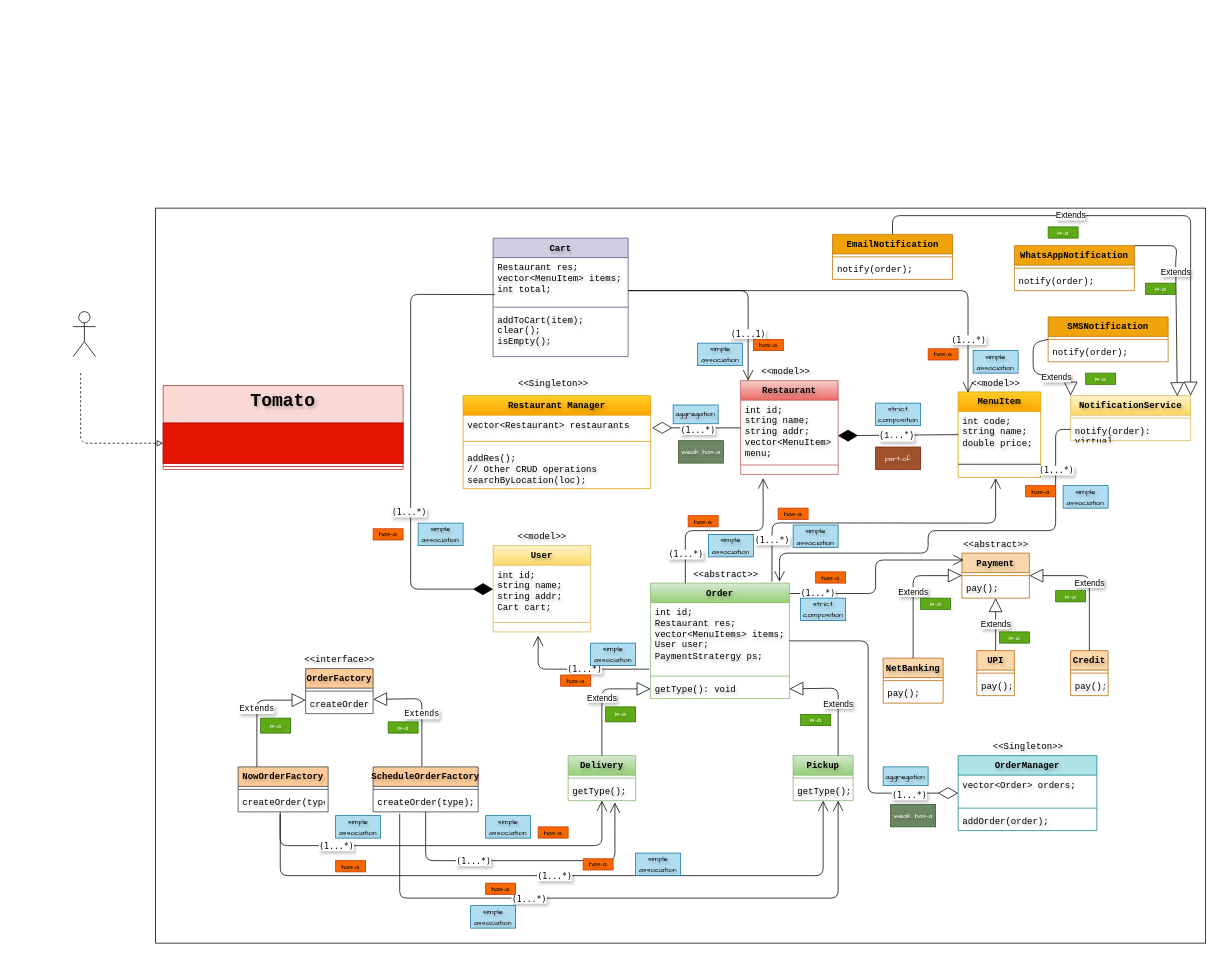
This 1219x956 diagram has some shape labels left out. Each missing label, with the centre of its shape:
"//orchestration class" goes at (282,443).
"Client" goes at (84,334).
